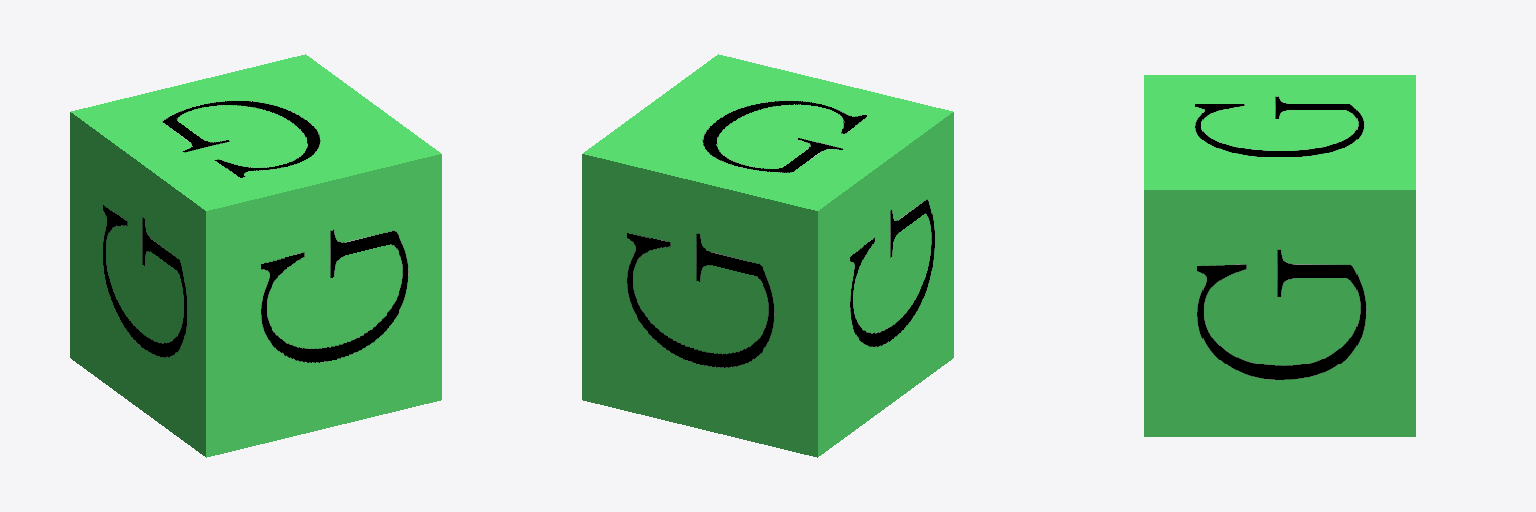
The picture shows the model from 3 angles: view 1: azimuth 30°, elevation 25°; view 2: azimuth 150°, elevation 25°; view 3: azimuth 270°, elevation 25°; orthographic projection.
Visible parts, largest first — view 1: 立方体; view 2: 立方体; view 3: 立方体.
Part boxes in pixels (left/top/right/bottom): 立方体: left=70, top=54, right=441, bottom=457; 立方体: left=582, top=54, right=953, bottom=457; 立方体: left=1144, top=75, right=1415, bottom=436.
Size of the model in its own units: 2 by 2 by 2.
1 materials, 1 textured.